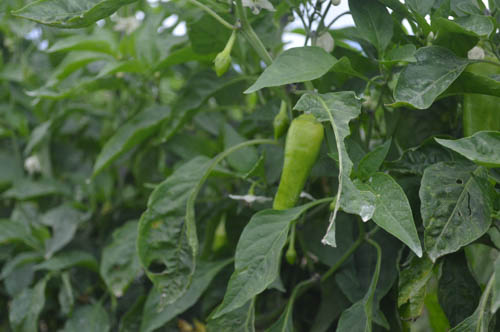ChiliPepper: (270, 114, 320, 217), (459, 56, 499, 162)
